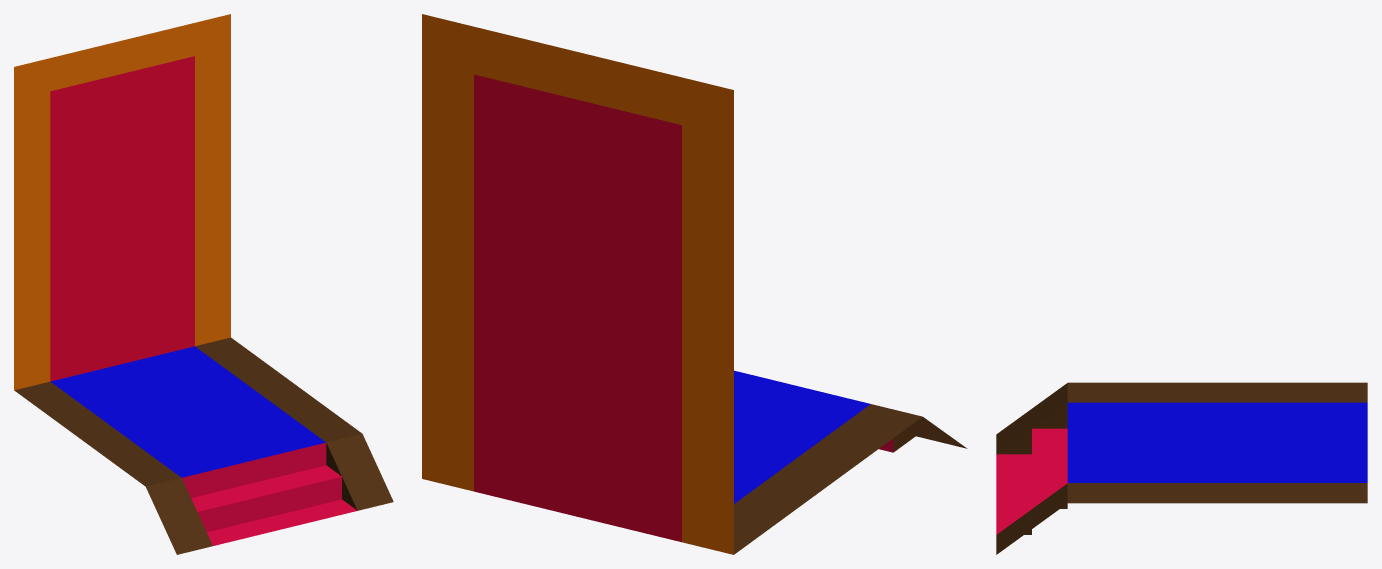
The model's file is Bottom Center.fbx.
3 views of the same model, side by side, from view 1: azimuth 30°, elevation 25°; view 2: azimuth 150°, elevation 25°; view 3: azimuth 270°, elevation 25° (orthographic). The views are drawn at different scales.
Visible parts, largest first — view 1: F_Bottom_Center; view 2: F_Bottom_Center; view 3: F_Bottom_Center.
Boxes of the visible parts, x1=… form: F_Bottom_Center: x1=14, y1=14, x2=393, y2=554; F_Bottom_Center: x1=422, y1=14, x2=967, y2=554; F_Bottom_Center: x1=996, y1=382, x2=1367, y2=554.
Size of the model in its own units: 400 by 650 by 520.
